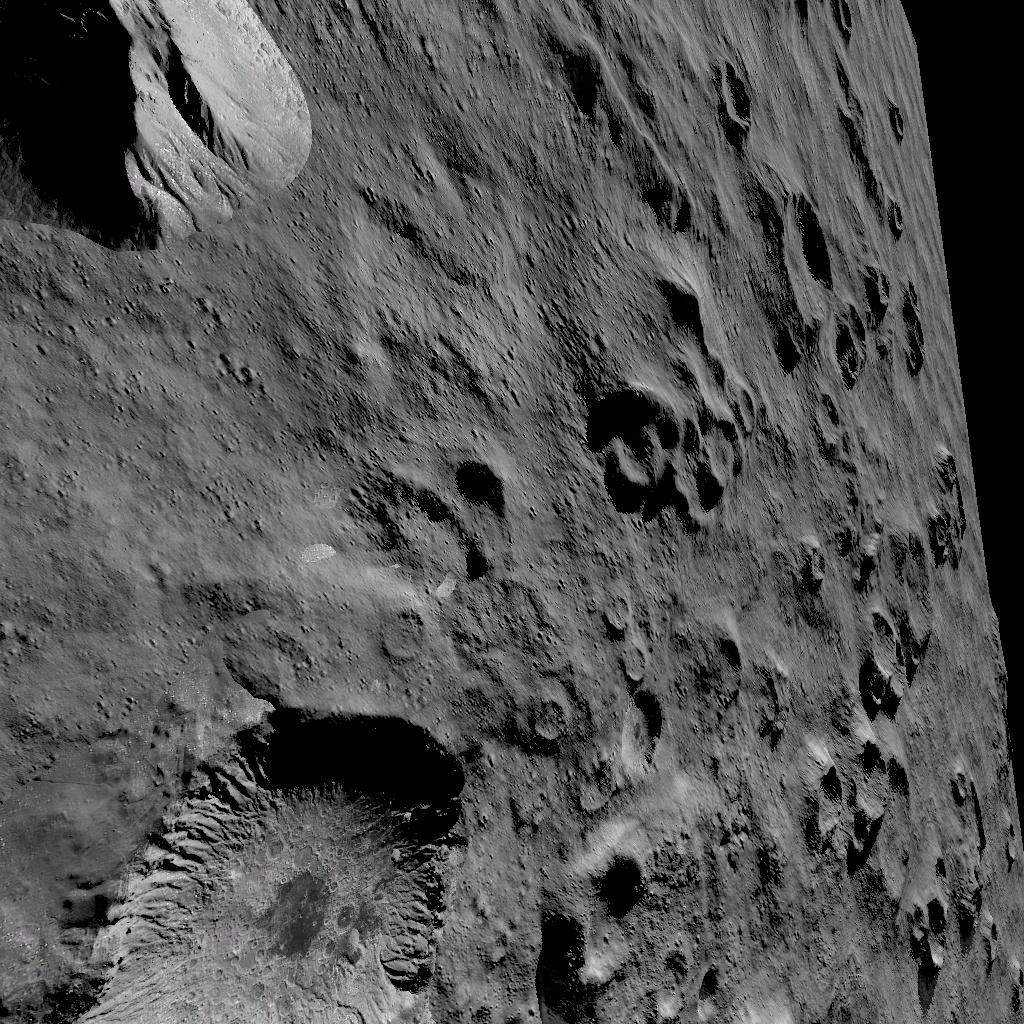Boulders: (0, 0, 306, 251)
Crater: (23, 696, 467, 1018), (765, 180, 924, 392), (563, 384, 757, 532), (353, 454, 506, 585), (529, 844, 637, 1004), (583, 590, 663, 794), (781, 732, 901, 858), (888, 877, 1008, 999), (835, 604, 922, 714), (645, 940, 727, 1024), (907, 446, 961, 572), (708, 56, 764, 146), (370, 606, 428, 667), (511, 692, 560, 752), (868, 96, 910, 160), (777, 540, 818, 600), (803, 402, 844, 460), (825, 0, 866, 50), (936, 760, 972, 808)
Plan surface: (3, 258, 343, 686), (351, 0, 556, 438)
